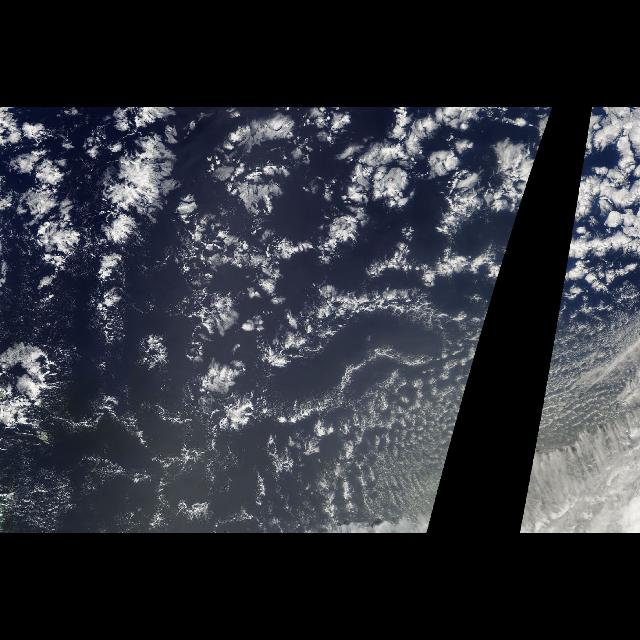Flower: (1, 108, 552, 442), (534, 112, 638, 442)
Gravel: (70, 366, 352, 528)
Sugar: (2, 450, 276, 528)
